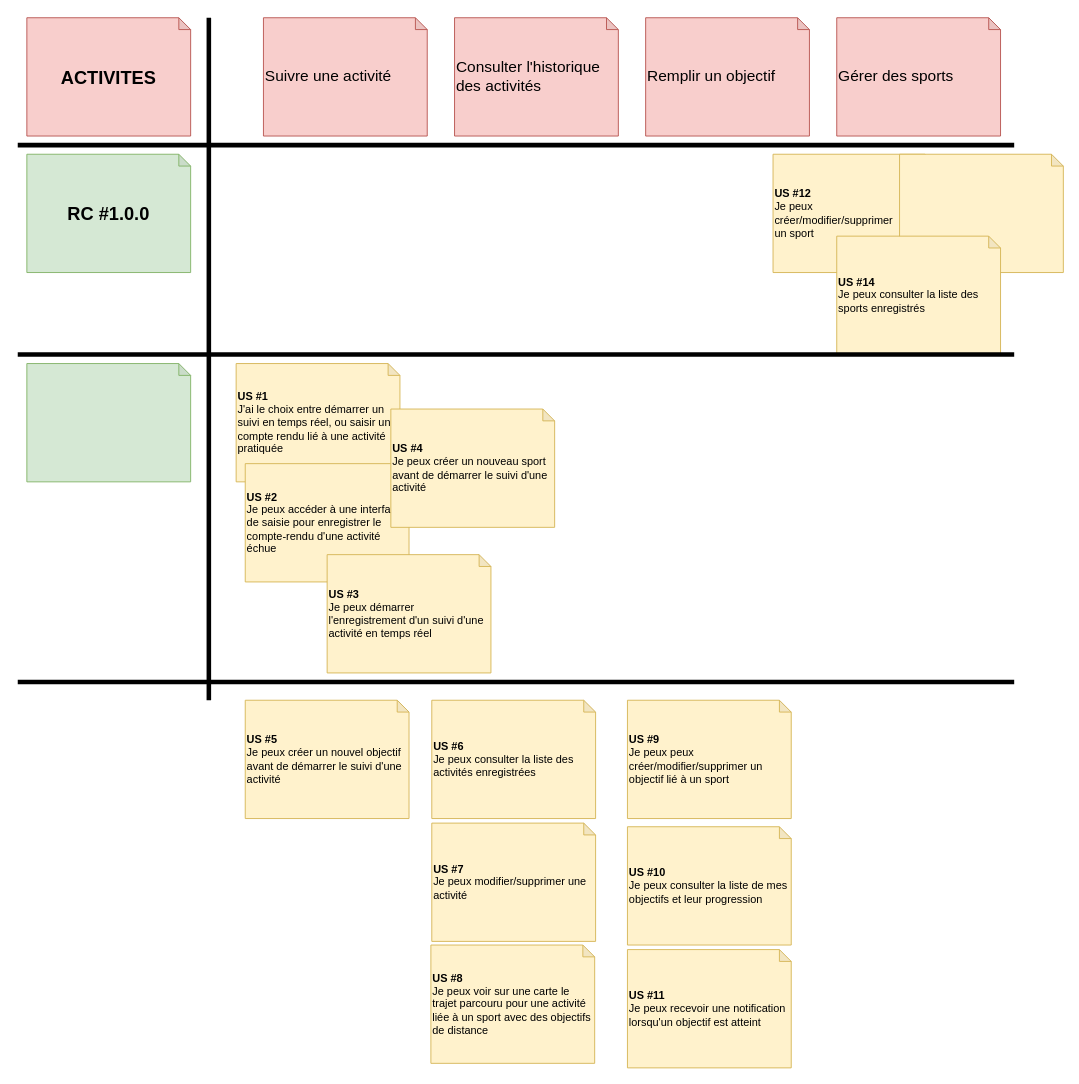
Some shapes in this 1079 by 1084 pixel diagram are drawn without their labels. Each missing label, with the box of its shape:
RC #2.0.0: (26, 363, 191, 482)
US #13 Je peux affecter à un sport un type d'objectif possible: (899, 153, 1063, 273)
